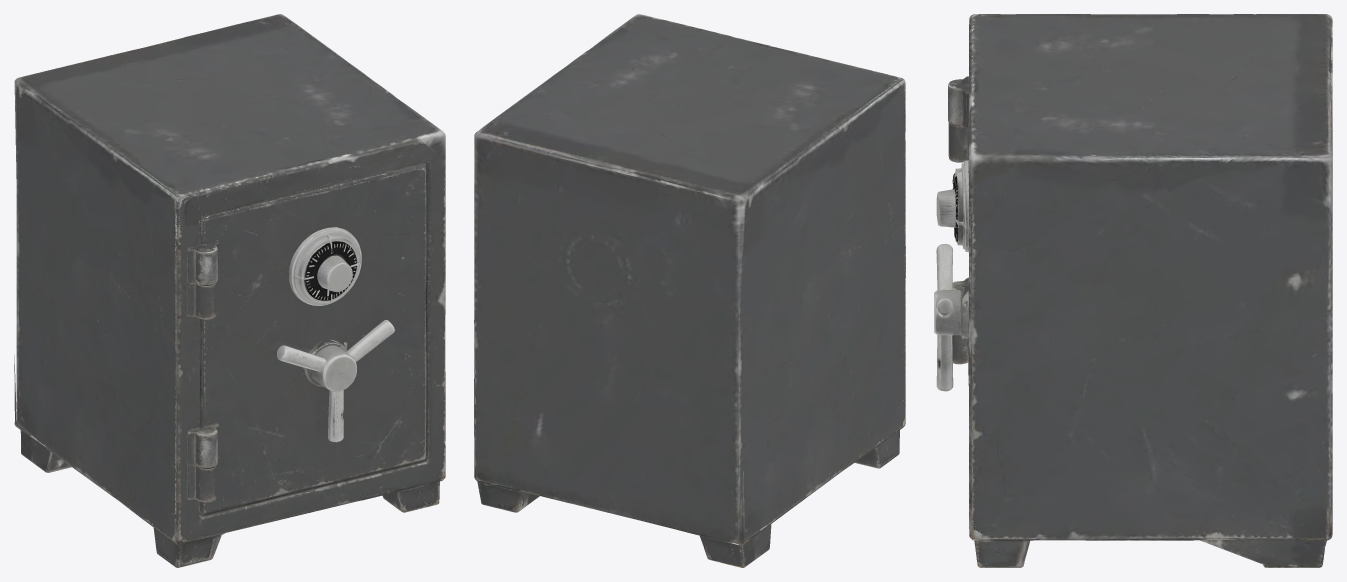
The model's file is safe.glb.
3 views of the same model, side by side, from view 1: azimuth 30°, elevation 25°; view 2: azimuth 150°, elevation 25°; view 3: azimuth 270°, elevation 25° (orthographic). The views are drawn at different scales.
Parts seen in each view (by area): view 1: Mesh_0; view 2: Mesh_0; view 3: Mesh_0.
Part boxes in pixels (x1,y1,x2,y2): Mesh_0: [14, 14, 445, 567]; Mesh_0: [474, 14, 905, 567]; Mesh_0: [934, 14, 1332, 567].
Size of the model in its own units: 1.43 by 1.9 by 1.66.
Materials: 1 (1 with a texture image).
